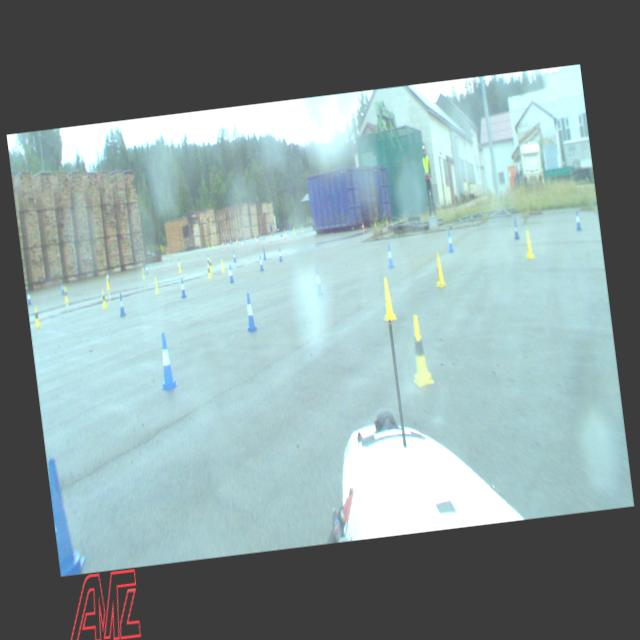blue_cone: (46, 455, 87, 575), (154, 333, 178, 390), (244, 292, 256, 331), (313, 268, 322, 295), (385, 244, 394, 268), (118, 293, 126, 316), (445, 230, 453, 252), (512, 220, 520, 240), (178, 276, 186, 296), (574, 210, 582, 230), (257, 254, 263, 270), (276, 247, 282, 260), (26, 289, 31, 304), (228, 264, 232, 282), (262, 248, 266, 260), (60, 282, 64, 294), (232, 251, 236, 262), (144, 264, 148, 274), (206, 252, 209, 264), (106, 271, 109, 282)
orange_cone: (361, 222, 365, 233), (373, 220, 377, 231), (384, 218, 388, 228)
yellow_cone: (405, 314, 434, 386), (378, 276, 396, 321), (432, 252, 446, 286), (524, 230, 534, 258), (33, 305, 40, 327), (100, 290, 106, 308), (154, 276, 160, 292), (105, 276, 110, 290), (206, 262, 210, 278), (64, 286, 68, 302), (220, 258, 224, 272), (208, 258, 212, 270), (141, 266, 145, 278), (178, 261, 182, 272)
